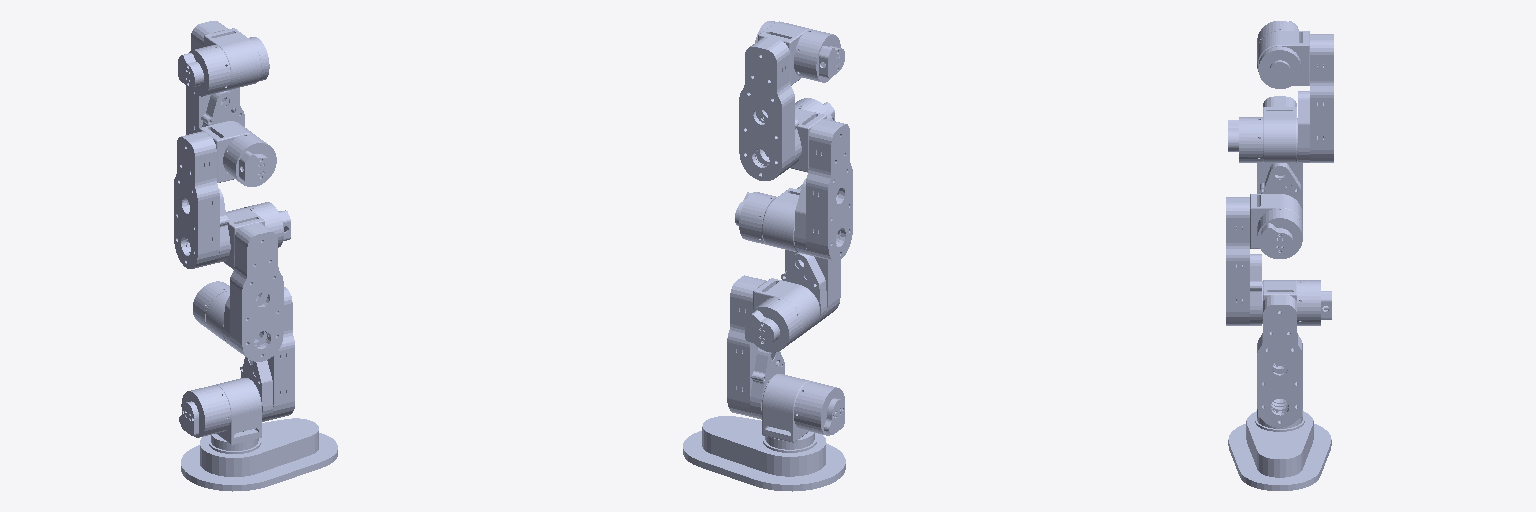
URDF robot description (j2_prototype3_3):
<?xml version="1.0" encoding="utf-8" ?>
<!-- This URDF was automatically created by SolidWorks to URDF Exporter! Originally created by [author] ([email redacted]) 
     Commit Version: 1.6.0-1-g15f4949  Build Version: 1.6.7594.29634
     For more information, please see http://wiki.ros.org/sw_urdf_exporter -->
<robot name="j2_prototype3_3">
    <link name="dummy" />
    <link name="base_link">
        
<inertial>
            <origin xyz="0.11384 -2.3403E-16 -0.12252" rpy="0 0 0" />
            <mass value="2.0493" />
            <inertia ixx="0.0053384" ixy="-1.1944E-18" ixz="-0.00016771" iyy="0.013602" iyz="6.7032E-18" izz="0.017691" />
        </inertial>

        <visual>
            <origin xyz="0 0 0" rpy="0 0 0" />
            <geometry>
                <mesh filename="package://j2_prototype3_3/meshes/base_link.STL" />
            </geometry>
            <material name="">
                <color rgba="0.79216 0.81961 0.93333 1" />
            </material>
        </visual>
        <collision>
            <origin xyz="0 0 0" rpy="0 0 0" />
            <geometry>
                <mesh filename="package://j2_prototype3_3/meshes/base_link.STL" />
            </geometry>
        </collision>
    </link>
    <joint name="dummy_joint" type="fixed">
        <parent link="dummy" />
        <child link="base_link" />
    </joint>
    <link name="Link_0">
        
<inertial>
            <origin xyz="1.61827309052782E-05 -0.0123497742427197 0.117149116597007" rpy="0 0 0" />
            <mass value="0.884810555483961" />
            <inertia ixx="0.00158081710341373" ixy="1.65019256946575E-07" ixz="6.93858360117018E-07" iyy="0.00169495951809545" iyz="-3.6460561615554E-06" izz="0.00141716407449672" />
        </inertial>

        <visual>
            <origin xyz="0 0 0" rpy="0 0 0" />
            <geometry>
                <mesh filename="package://j2_prototype3_3/meshes/Link_0.STL" />
            </geometry>
            <material name="">
                <color rgba="0.792156862745098 0.819607843137255 0.933333333333333 1" />
            </material>
        </visual>
        <collision>
            <origin xyz="0 0 0" rpy="0 0 0" />
            <geometry>
                <mesh filename="package://j2_prototype3_3/meshes/Link_0.STL" />
            </geometry>
        </collision>
    </link>
    <joint name="Base_Rotate" type="revolute">
        <origin xyz="0.0483 0 -0.1263" rpy="0 0 -1.5708" />
        <parent link="base_link" />
        <child link="Link_0" />
        <axis xyz="0 0 1" />
        <limit lower="-3.14" upper="3.14" effort="0" velocity="0" />
    </joint>
    <link name="Link_1">
        
<inertial>
            <origin xyz="0.0857819637518 0.00580822512338841 0.150560483479643" rpy="0 0 0" />
            <mass value="1.65666298237923" />
            <inertia ixx="0.00776893592809935" ixy="-3.83296066990928E-06" ixz="-6.56645197721605E-06" iyy="0.00737009929368987" iyz="2.10121053232552E-06" izz="0.00233759453730666" />
        </inertial>

        <visual>
            <origin xyz="0 0 0" rpy="0 0 0" />
            <geometry>
                <mesh filename="package://j2_prototype3_3/meshes/Link_1.STL" />
            </geometry>
            <material name="">
                <color rgba="0.792156862745098 0.819607843137255 0.933333333333333 1" />
            </material>
        </visual>
        <collision>
            <origin xyz="0 0 0" rpy="0 0 0" />
            <geometry>
                <mesh filename="package://j2_prototype3_3/meshes/Link_1.STL" />
            </geometry>
        </collision>
    </link>
    <joint name="Limb_1" type="revolute">
        <origin xyz="0 -0.0382999999999991 0.126300000762939" rpy="0 0 1.5707963267949" />
        <parent link="Link_0" />
        <child link="Link_1" />
        <axis xyz="-1 0 0" />
        <limit lower="-1.57" upper="1.57" effort="0" velocity="0" />
    </joint>
    <link name="Link_2">
        
<inertial>
            <origin xyz="0.0877819571500387 0.00580822512338794 0.150560483479643" rpy="0 0 0" />
            <mass value="1.65666298237922" />
            <inertia ixx="0.00776893592809933" ixy="-3.83296066990485E-06" ixz="-6.56645197728899E-06" iyy="0.00737009929368986" iyz="2.1012105323528E-06" izz="0.00233759453730663" />
        </inertial>

        <visual>
            <origin xyz="0 0 0" rpy="0 0 0" />
            <geometry>
                <mesh filename="package://j2_prototype3_3/meshes/Link_2.STL" />
            </geometry>
            <material name="">
                <color rgba="0.792156862745098 0.819607843137255 0.933333333333333 1" />
            </material>
        </visual>
        <collision>
            <origin xyz="0 0 0" rpy="0 0 0" />
            <geometry>
                <mesh filename="package://j2_prototype3_3/meshes/Link_2.STL" />
            </geometry>
        </collision>
    </link>
    <joint name="Limb_2" type="revolute">
        <origin xyz="0.0383 0.040299991703033 0.2" rpy="0 0 -1.5707963267949" />
        <parent link="Link_1" />
        <child link="Link_2" />
        <axis xyz="-1 0 0" />
        <limit lower="-1.57" upper="1.57" effort="0" velocity="0" />
    </joint>
    <link name="Link_3">
        
<inertial>
            <origin xyz="0.0850855601631643 0.00453029722345036 0.149501795627794" rpy="0 0 0" />
            <mass value="1.65666298237921" />
            <inertia ixx="0.0077689359280993" ixy="-3.83296066990403E-06" ixz="-6.56645197735943E-06" iyy="0.00737009929368985" iyz="2.10121053224014E-06" izz="0.00233759453730661" />
        </inertial>

        <visual>
            <origin xyz="0 0 0" rpy="0 0 0" />
            <geometry>
                <mesh filename="package://j2_prototype3_3/meshes/Link_3.STL" />
            </geometry>
            <material name="">
                <color rgba="0.792156862745098 0.819607843137255 0.933333333333333 1" />
            </material>
        </visual>
        <collision>
            <origin xyz="0 0 0" rpy="0 0 0" />
            <geometry>
                <mesh filename="package://j2_prototype3_3/meshes/Link_3.STL" />
            </geometry>
        </collision>
    </link>
    <joint name="Limb_3" type="revolute">
        <origin xyz="0.041577919602976 0.037603596411357 0.201058687851851" rpy="0 0 -1.5707963267949" />
        <parent link="Link_2" />
        <child link="Link_3" />
        <axis xyz="-1 0 0" />
        <limit lower="-1.57" upper="1.57" effort="0" velocity="0" />
    </joint>
    <link name="Link_4">
        
<inertial>
            <origin xyz="0.0877819622259346 0.00580822512339147 0.150560483479637" rpy="0 0 0" />
            <mass value="1.65666298237923" />
            <inertia ixx="0.00776893592809935" ixy="-3.83296066989214E-06" ixz="-6.56645197733123E-06" iyy="0.00737009929368986" iyz="2.10121053221037E-06" izz="0.00233759453730665" />
        </inertial>

        <visual>
            <origin xyz="0 0 0" rpy="0 0 0" />
            <geometry>
                <mesh filename="package://j2_prototype3_3/meshes/Link_4.STL" />
            </geometry>
            <material name="">
                <color rgba="0.792156862745098 0.819607843137255 0.933333333333333 1" />
            </material>
        </visual>
        <collision>
            <origin xyz="0 0 0" rpy="0 0 0" />
            <geometry>
                <mesh filename="package://j2_prototype3_3/meshes/Link_4.STL" />
            </geometry>
        </collision>
    </link>
    <joint name="Limb_4" type="revolute">
        <origin xyz="0.037603596411366 0.039022070574184 0.198941312148156" rpy="0 0 -1.5707963267949" />
        <parent link="Link_3" />
        <child link="Link_4" />
        <axis xyz="-1 0 0" />
        <limit lower="-1.57" upper="1.57" effort="0" velocity="0" />
    </joint>
    <link name="Link_5">
        
<inertial>
            <origin xyz="0.092387346244534 2.43122943960027E-12 -3.51507711826571E-12" rpy="0 0 0" />
            <mass value="0.065637413377382" />
            <inertia ixx="7.05811091251407E-05" ixy="-2.87901126860586E-18" ixz="1.27280752998441E-17" iyy="3.63181467498312E-05" iyz="-8.56308997348221E-13" izz="3.63181467549861E-05" />
        </inertial>

        <visual>
            <origin xyz="0 0 0" rpy="0 0 0" />
            <geometry>
                <mesh filename="package://j2_prototype3_3/meshes/Link_5.STL" />
            </geometry>
            <material name="">
                <color rgba="0.792156862745098 0.819607843137255 0.933333333333333 1" />
            </material>
        </visual>
        <collision>
            <origin xyz="0 0 0" rpy="0 0 0" />
            <geometry>
                <mesh filename="package://j2_prototype3_3/meshes/Link_5.STL" />
            </geometry>
        </collision>
    </link>
    <joint name="Effector_Limb" type="revolute">
        <origin xyz="0.040299998474171 0.038300000000004 0.199999999999992" rpy="0 0 -1.5707963267949" />
        <parent link="Link_4" />
        <child link="Link_5" />
        <axis xyz="-1 0 0" />
        <limit lower="-3.14" upper="3.14" effort="0" velocity="0" />
    </joint>
    
<transmission name="trans_Base_Rotate">
        <type>transmission_interface/SimpleTransmission</type>
        <joint name="Base_Rotate">
            <hardwareInterface>hardware_interface/EffortJointInterface</hardwareInterface>
        </joint>
        <actuator name="Base_Rotate_motor">
            <hardwareInterface>hardware_interface/EffortJointInterface</hardwareInterface>
            <mechanicalReduction>1</mechanicalReduction>
        </actuator>
    </transmission>
    <transmission name="trans_Limb_1">
        <type>transmission_interface/SimpleTransmission</type>
        <joint name="Limb_1">
            <hardwareInterface>hardware_interface/EffortJointInterface</hardwareInterface>
        </joint>
        <actuator name="Limb_1_motor">
            <hardwareInterface>hardware_interface/EffortJointInterface</hardwareInterface>
            <mechanicalReduction>1</mechanicalReduction>
        </actuator>
    </transmission>
    <transmission name="trans_Limb_2">
        <type>transmission_interface/SimpleTransmission</type>
        <joint name="Limb_2">
            <hardwareInterface>hardware_interface/EffortJointInterface</hardwareInterface>
        </joint>
        <actuator name="Limb_2_motor">
            <hardwareInterface>hardware_interface/EffortJointInterface</hardwareInterface>
            <mechanicalReduction>1</mechanicalReduction>
        </actuator>
    </transmission>
    <transmission name="trans_Limb_3">
        <type>transmission_interface/SimpleTransmission</type>
        <joint name="Limb_3">
            <hardwareInterface>hardware_interface/EffortJointInterface</hardwareInterface>
        </joint>
        <actuator name="Limb_3_motor">
            <hardwareInterface>hardware_interface/EffortJointInterface</hardwareInterface>
            <mechanicalReduction>1</mechanicalReduction>
        </actuator>
    </transmission>
    <transmission name="trans_Limb_4">
        <type>transmission_interface/SimpleTransmission</type>
        <joint name="Limb_4">
            <hardwareInterface>hardware_interface/EffortJointInterface</hardwareInterface>
        </joint>
        <actuator name="Limb_4_motor">
            <hardwareInterface>hardware_interface/EffortJointInterface</hardwareInterface>
            <mechanicalReduction>1</mechanicalReduction>
        </actuator>
    </transmission>
    <transmission name="trans_Effector_Limb">
        <type>transmission_interface/SimpleTransmission</type>
        <joint name="Effector_Limb">
            <hardwareInterface>hardware_interface/EffortJointInterface</hardwareInterface>
        </joint>
        <actuator name="Effector_Limb_motor">
            <hardwareInterface>hardware_interface/EffortJointInterface</hardwareInterface>
            <mechanicalReduction>1</mechanicalReduction>
        </actuator>
    </transmission>
    <gazebo>
        <plugin name="gazebo_ros_control" filename="libgazebo_ros_control.so">
            <robotNamespace>/</robotNamespace>
        </plugin>
    </gazebo>
</robot>

--- Facts derived from the render (not from the file) ---
The picture shows the robot from 3 angles, left to right: view 1: azimuth 30°, elevation 25°; view 2: azimuth 150°, elevation 25°; view 3: azimuth 270°, elevation 25°; orthographic projection.
Model j2_prototype3_3 with 8 links and 7 joints (6 revolute, 1 fixed), rooted at dummy, posed every joint at zero.
Visible links, largest first — view 1: Link_3, Link_2, base_link, Link_4, Link_1, Link_0; view 2: Link_4, Link_1, base_link, Link_3, Link_2, Link_0; view 3: Link_1, Link_2, Link_4, base_link, Link_3, Link_5.
Link boxes in pixels (x1,y1,x2,y2): Link_3: (174, 121, 276, 268); Link_2: (223, 202, 290, 361); base_link: (181, 418, 337, 491); Link_4: (178, 21, 262, 134); Link_1: (193, 281, 294, 421); Link_0: (179, 378, 261, 444); Link_4: (739, 21, 844, 180); Link_1: (727, 275, 819, 419); base_link: (683, 416, 845, 491); Link_3: (764, 98, 852, 261); Link_2: (735, 185, 840, 324); Link_0: (762, 374, 844, 442); Link_1: (1257, 280, 1331, 427); Link_2: (1226, 194, 1302, 325); Link_4: (1257, 21, 1333, 162); base_link: (1228, 411, 1331, 490); Link_3: (1228, 96, 1302, 210); Link_5: (1258, 47, 1301, 88).
Size in the robot's own frame: 0.3611 by 0.2406 by 1 metres.
Meshes: 7 distinct files referenced, 7 mesh visuals loaded (7 binary STL).